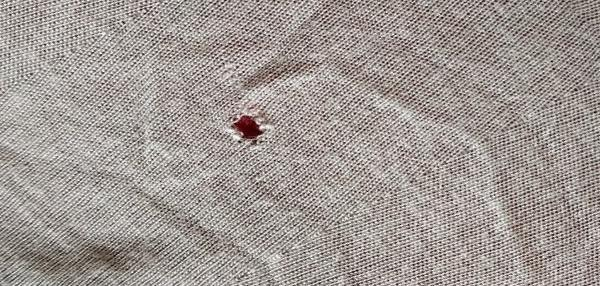hole: (227, 105, 266, 152)
